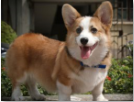dog: (52, 3, 121, 66)
